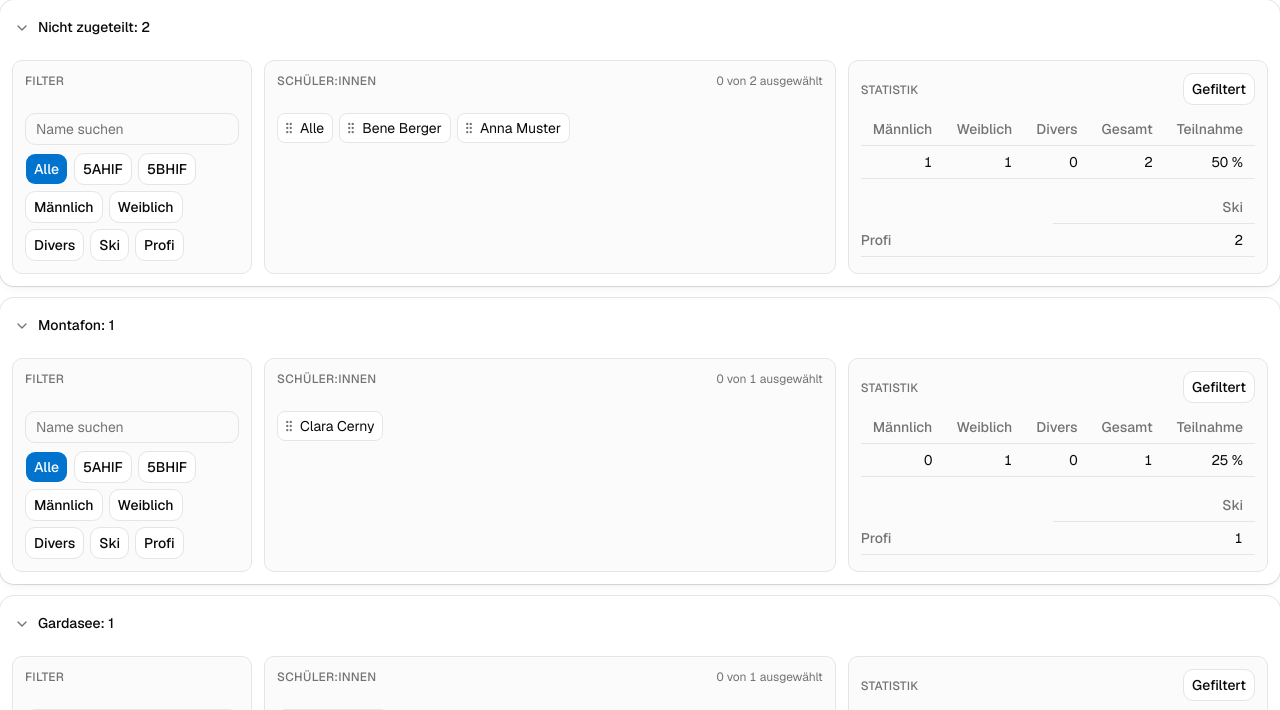
Test: AssignmentBoard › says how many of the students it lists are picked
Expected: the text "0 von 2 ausgewählt" is shown, [716, 73, 823, 89]
Click the button "Bene Berger": (404,128) [358, 114, 450, 142]
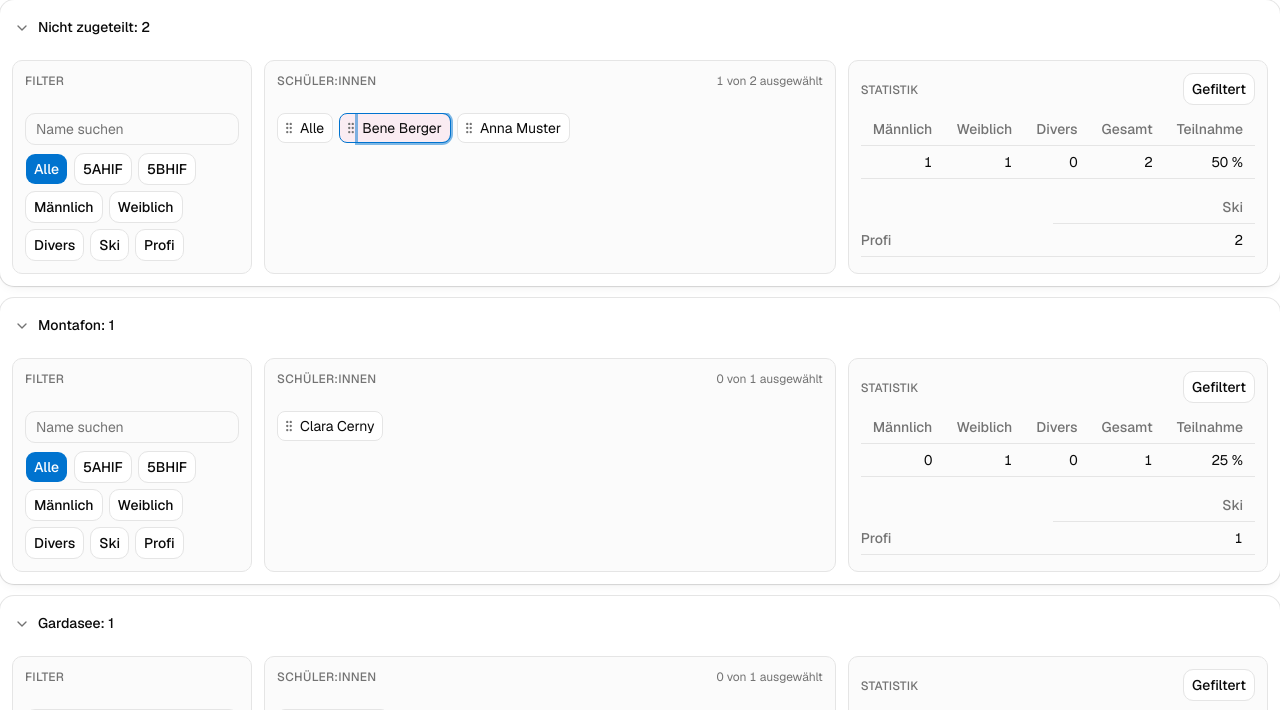
Expected: the text "1 von 2 ausgewählt" is shown, [716, 73, 823, 89]
